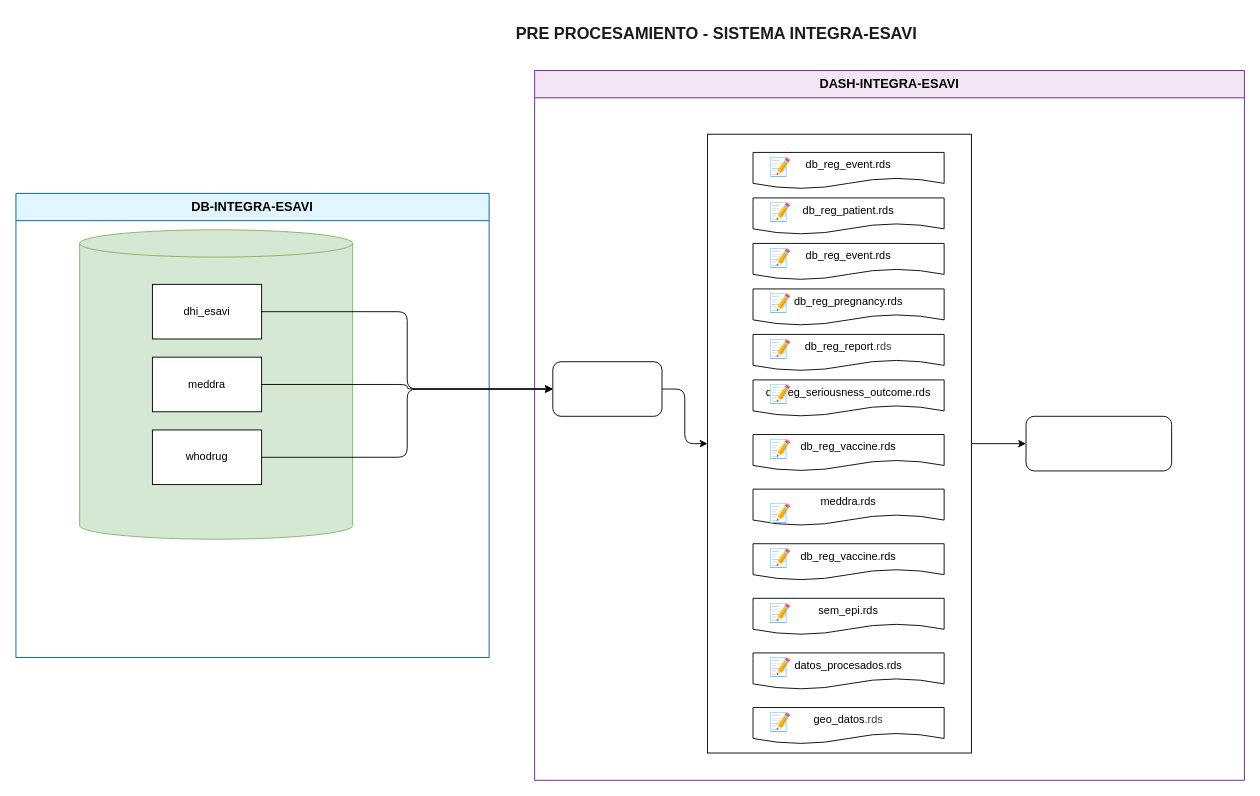
Some shapes in this 1260 by 796 pixel diagram are drawn without their labels. Here are the shapes that lost their labels. From the top down, the centre of each, then its label:
(x=607, y=388): preparar_datos.R
(x=1098, y=443): procesamiento_datos.R
